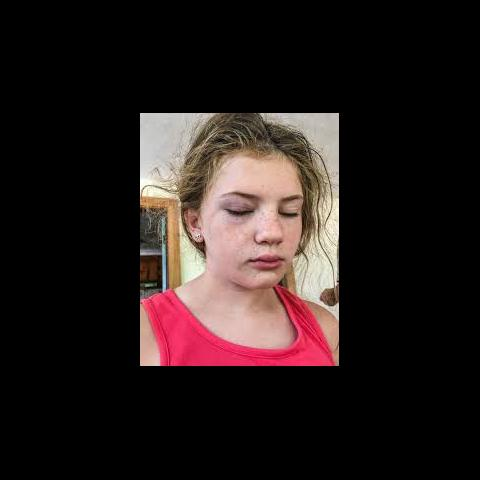closed: (213, 188, 310, 224)
